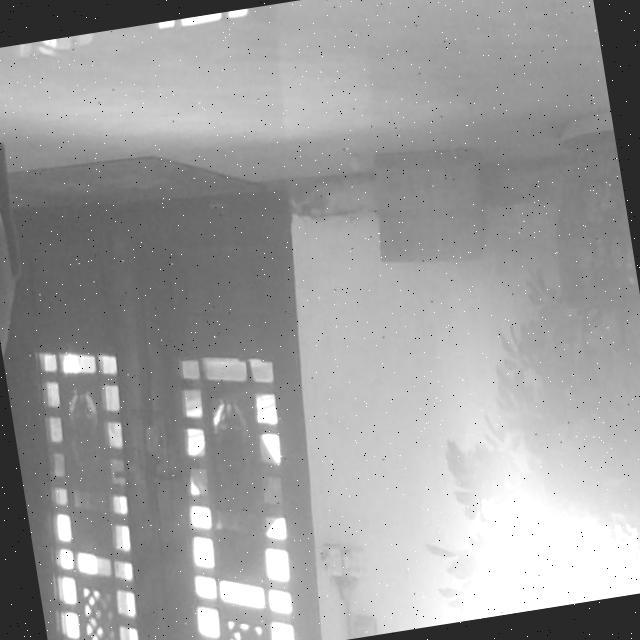ping-pong-ball: (348, 154, 361, 171)
